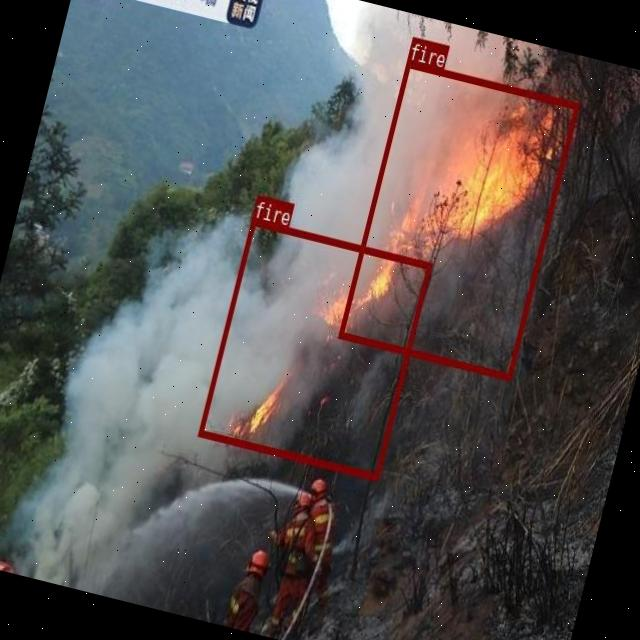fire: (338, 61, 578, 380), (196, 218, 432, 480)
